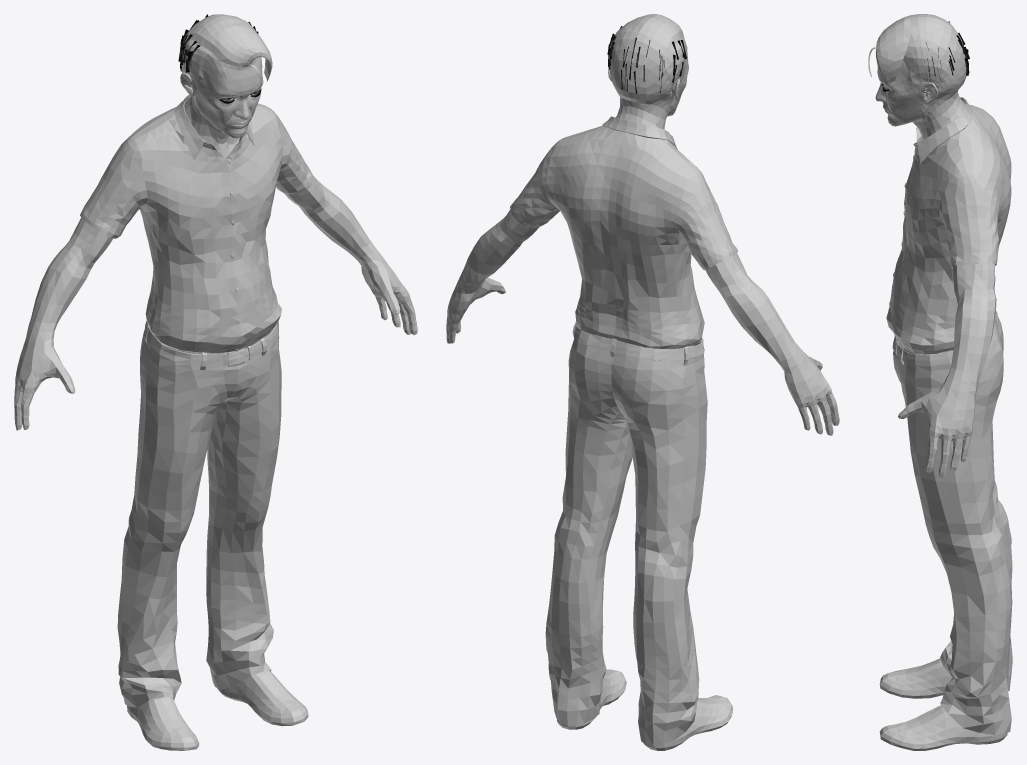
The model's file is sandman.obj.
The picture shows the model from 3 angles, left to right: view 1: azimuth 30°, elevation 25°; view 2: azimuth 150°, elevation 25°; view 3: azimuth 270°, elevation 25°; orthographic projection. The views are drawn at different scales.
Parts seen in each view (by area): view 1: rdmobj06.008, rdmobj05.010, rdmobj01.028, rdmobj02.021, rdmobj00.038; view 2: rdmobj06.008, rdmobj05.010, rdmobj01.028, rdmobj00.038, rdmobj07.005, rdmobj02.021; view 3: rdmobj06.008, rdmobj05.010, rdmobj01.028, rdmobj00.038, rdmobj02.021, rdmobj07.005.
Part boxes in pixels (bbox=[...]): rdmobj06.008: bbox=[117, 143, 308, 750]; rdmobj05.010: bbox=[80, 94, 313, 352]; rdmobj01.028: bbox=[14, 72, 417, 430]; rdmobj02.021: bbox=[180, 57, 263, 158]; rdmobj00.038: bbox=[181, 14, 272, 89]; rdmobj06.008: bbox=[446, 320, 732, 750]; rdmobj05.010: bbox=[510, 116, 738, 348]; rdmobj01.028: bbox=[446, 78, 839, 435]; rdmobj00.038: bbox=[609, 14, 685, 104]; rdmobj07.005: bbox=[607, 26, 686, 93]; rdmobj02.021: bbox=[608, 41, 688, 129]; rdmobj06.008: bbox=[879, 155, 1012, 750]; rdmobj05.010: bbox=[886, 97, 1011, 354]; rdmobj01.028: bbox=[898, 81, 996, 478]; rdmobj00.038: bbox=[868, 14, 966, 95]; rdmobj02.021: bbox=[875, 60, 941, 139]; rdmobj07.005: bbox=[922, 21, 969, 82].
Bounding box in the file's own units: 106 × 183 × 34.17.
